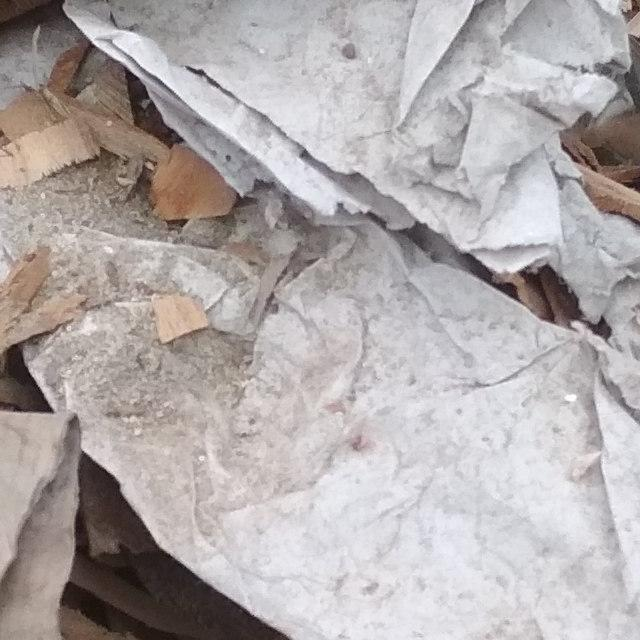paper: (0, 14, 640, 640), (0, 0, 640, 292)
